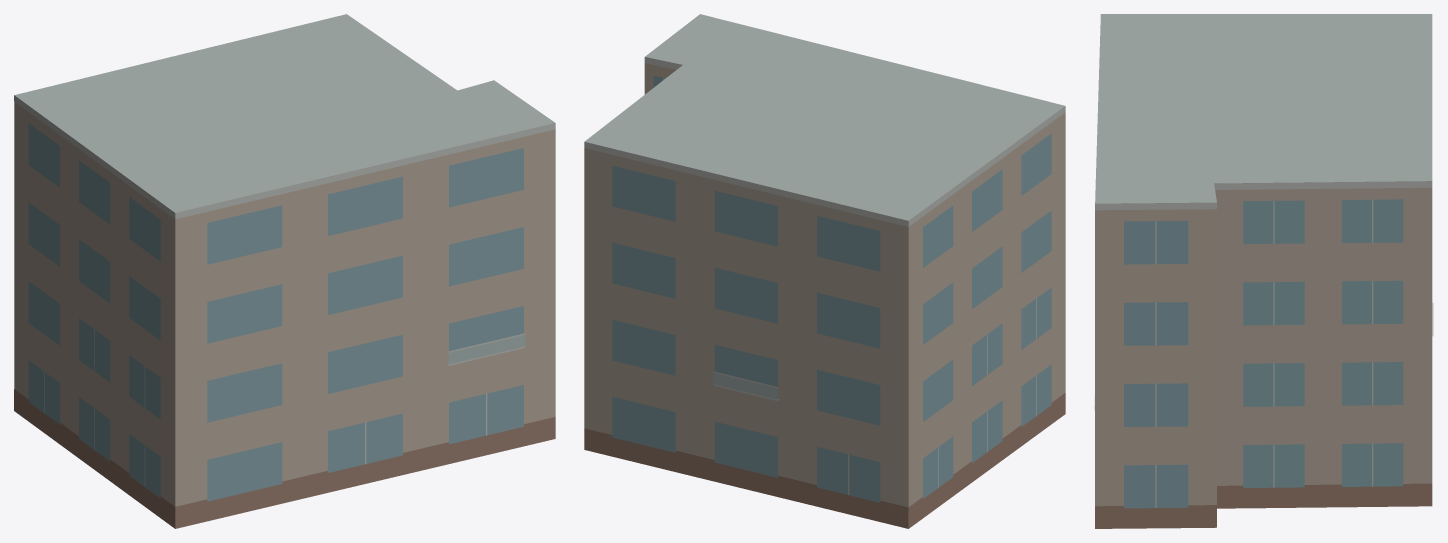
Rendered from survey-upis-32917016.glb.
3 renders of one model, left to right at view 1: azimuth 30°, elevation 25°; view 2: azimuth 150°, elevation 25°; view 3: azimuth 270°, elevation 25°, orthographic. The views are drawn at different scales.
Parts seen in each view (by area): view 1: survey-upis-32917016.tmp; view 2: survey-upis-32917016.tmp; view 3: survey-upis-32917016.tmp.
Part boxes in pixels (x1,y1,x2,y2): survey-upis-32917016.tmp: (14, 14, 555, 528); survey-upis-32917016.tmp: (584, 14, 1065, 528); survey-upis-32917016.tmp: (1094, 14, 1433, 528).
Bounding box in the file's own units: 15.15 × 12.1 × 11.44.
